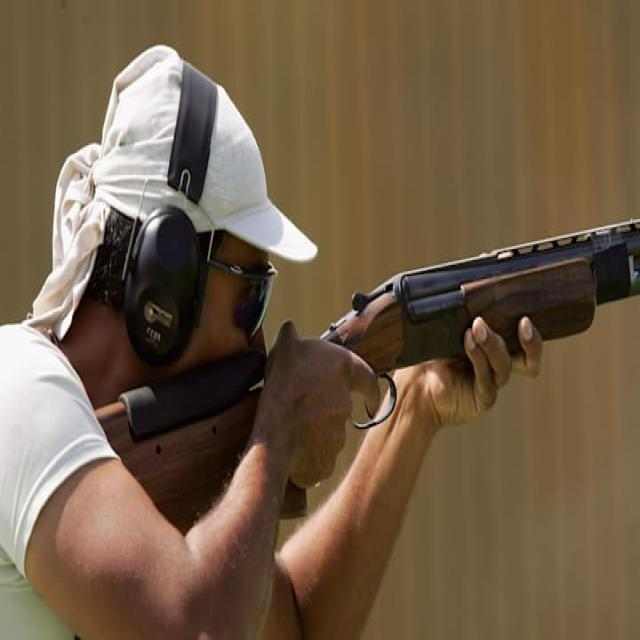ShotGun: (96, 221, 640, 534)
